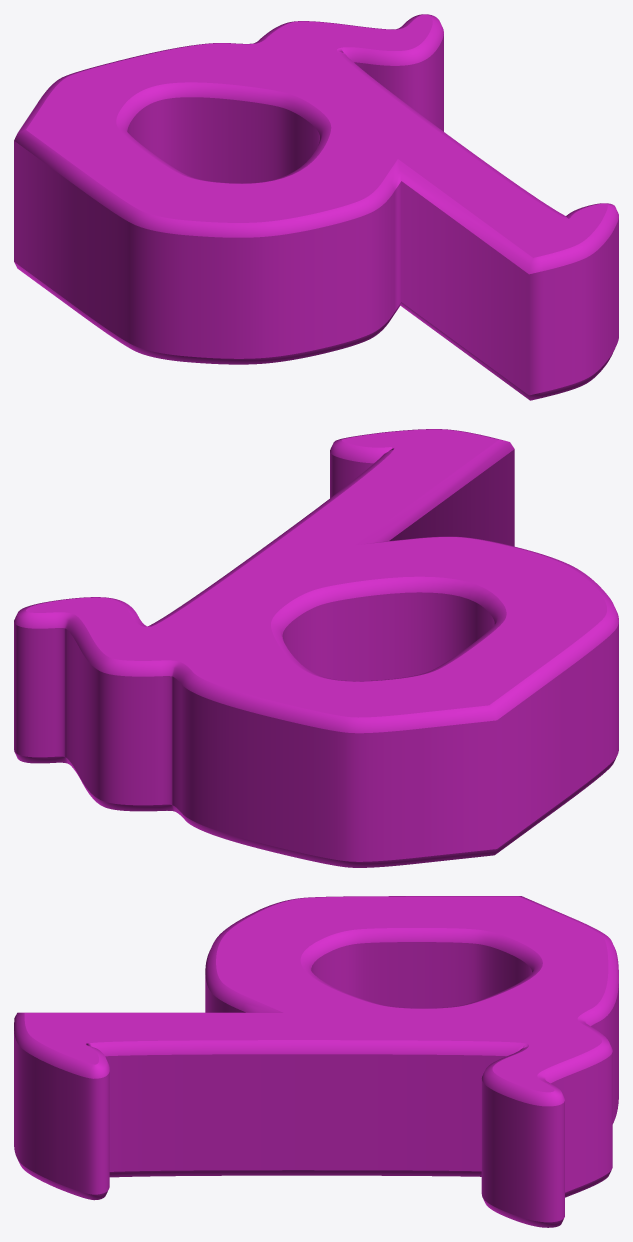
File: Letter_b_Small.fbx
3 views of the same model, one above another, from view 1: azimuth 30°, elevation 25°; view 2: azimuth 150°, elevation 25°; view 3: azimuth 270°, elevation 25° (orthographic). The views are drawn at different scales.
Parts seen in each view (by area): view 1: Letter_b; view 2: Letter_b; view 3: Letter_b.
Part boxes in pixels (box(x1,y1,x2,y2)): Letter_b: box(14, 14, 618, 400); Letter_b: box(14, 429, 618, 867); Letter_b: box(14, 896, 618, 1227).
Bounding box in the file's own units: 0.4549 × 0.14 × 0.5678.
